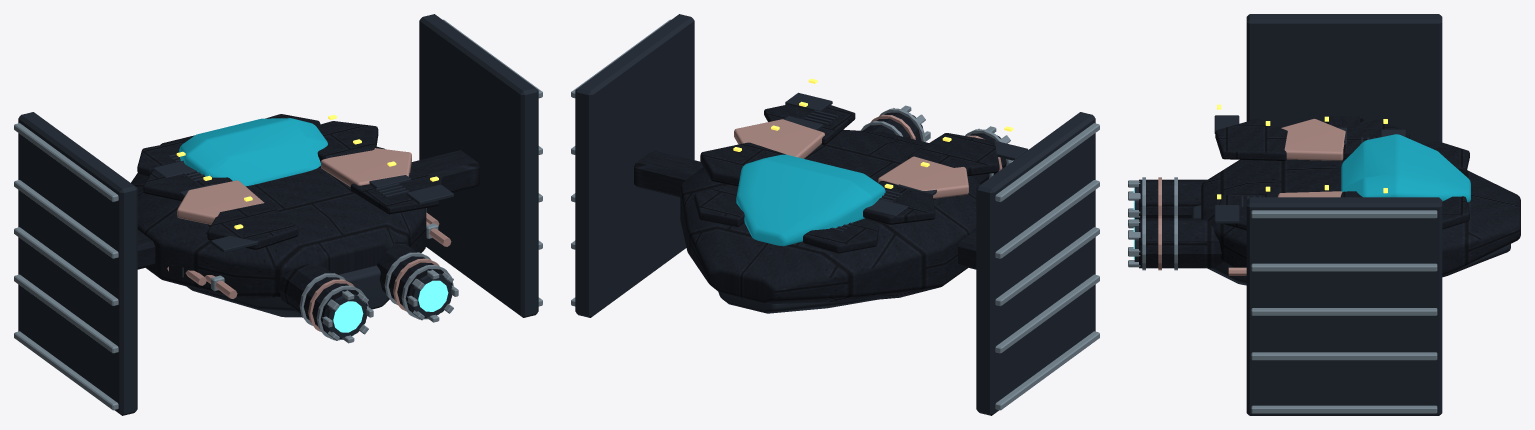
Rendered from corvus.glb.
The picture shows the model from 3 angles, left to right: view 1: azimuth 30°, elevation 25°; view 2: azimuth 150°, elevation 25°; view 3: azimuth 270°, elevation 25°; orthographic projection. The views are drawn at different scales.
Visible parts, largest first — view 1: Bocal do motor.015 · exportação, Gôndola do motor.015 · exportação, Aleta do bocal.127 · exportação, Cabine panorâmica.007 · exportação, Colar da turbina.046 · exportação, Núcleo propulsor.015 · exportação; view 2: Bocal do motor.015 · exportação, Gôndola do motor.015 · exportação, Cabine panorâmica.007 · exportação, Aleta do bocal.127 · exportação, Colar da turbina.046 · exportação; view 3: Bocal do motor.015 · exportação, Gôndola do motor.015 · exportação, Aleta do bocal.127 · exportação, Cabine panorâmica.007 · exportação, Colar da turbina.046 · exportação.
Boxes of the visible parts, bbox=[...] form: Bocal do motor.015 · exportação: bbox=[18, 14, 538, 415]; Gôndola do motor.015 · exportação: bbox=[131, 114, 479, 338]; Aleta do bocal.127 · exportação: bbox=[14, 19, 542, 410]; Cabine panorâmica.007 · exportação: bbox=[179, 118, 327, 186]; Colar da turbina.046 · exportação: bbox=[167, 148, 451, 331]; Núcleo propulsor.015 · exportação: bbox=[333, 280, 448, 332]; Bocal do motor.015 · exportação: bbox=[575, 14, 1095, 415]; Gôndola do motor.015 · exportação: bbox=[634, 104, 1006, 303]; Cabine panorâmica.007 · exportação: bbox=[736, 154, 885, 246]; Aleta do bocal.127 · exportação: bbox=[571, 19, 1099, 410]; Colar da turbina.046 · exportação: bbox=[734, 114, 1002, 198]; Bocal do motor.015 · exportação: bbox=[1134, 14, 1510, 415]; Gôndola do motor.015 · exportação: bbox=[1139, 116, 1520, 277]; Aleta do bocal.127 · exportação: bbox=[1128, 177, 1437, 413]; Cabine panorâmica.007 · exportação: bbox=[1341, 134, 1470, 202]; Colar da turbina.046 · exportação: bbox=[1158, 118, 1345, 275].
Size of the model in its own units: 47.64 by 24 by 40.12.
7 materials, 1 textured.
